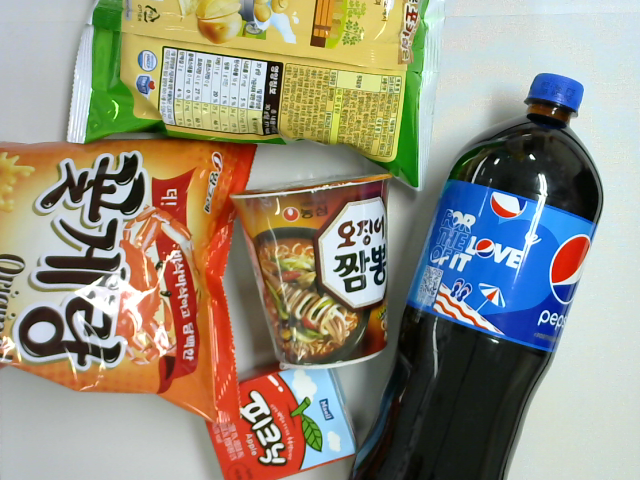Crabrang: (1, 138, 255, 424)
Ojjam: (227, 172, 393, 370)
Pepsi_Cola_1.5L: (350, 72, 603, 480)
Picnic_Apple: (204, 352, 358, 480)
Pocachip_Onion: (66, 1, 446, 193)
